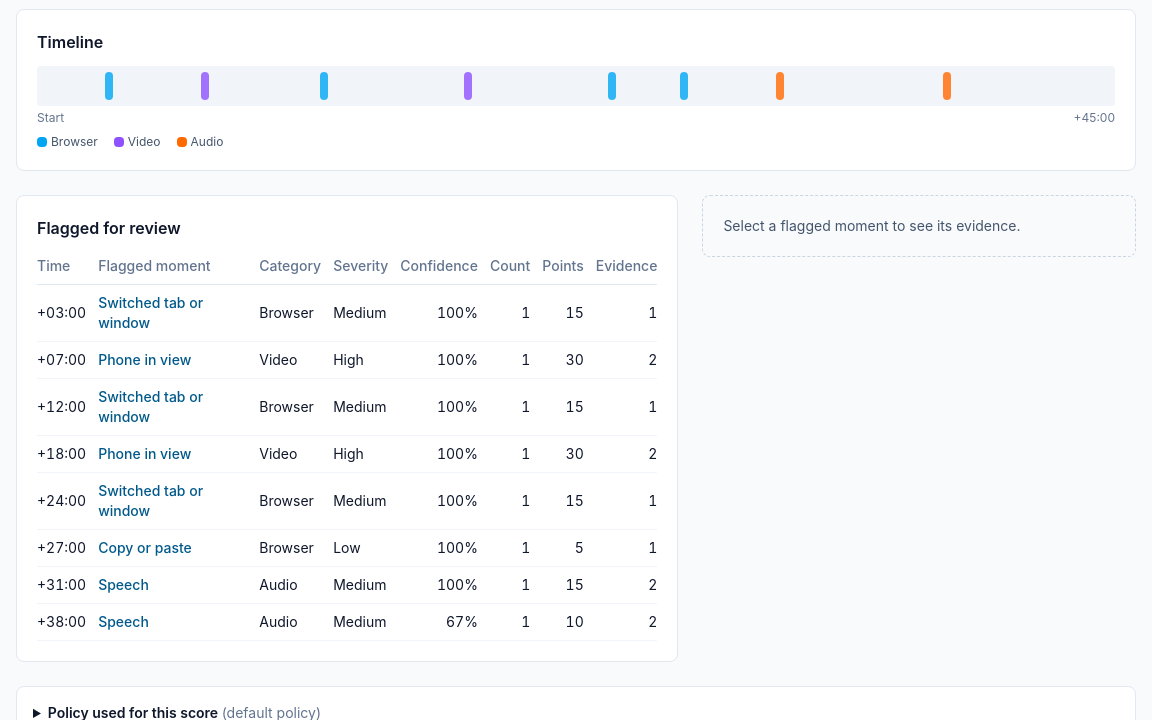
Test: report: trace every point to a violation and its evidence › opens a violation and shows its frame, event sequence and points formula
(page scrolled)
Click the button "Phone in view" next to "+07:00" at (145, 360), box [98,350,191,370]
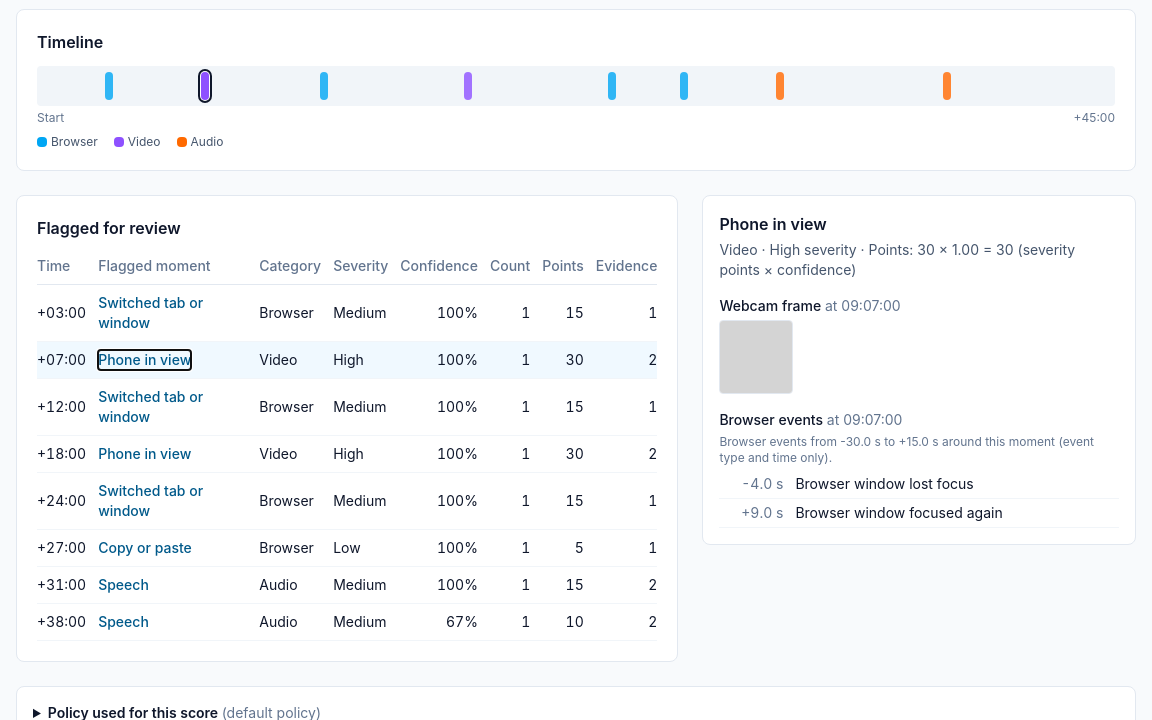
Expected: the element named "Evidence" shows "Points: 30 × 1.00 = 30", [702,195,1136,545]
Expected: the list named "Browser events" shows "-4.0 s", [741,475,783,492]
Expected: the list named "Browser events" shows "Browser window lost focus", [795,475,974,492]
